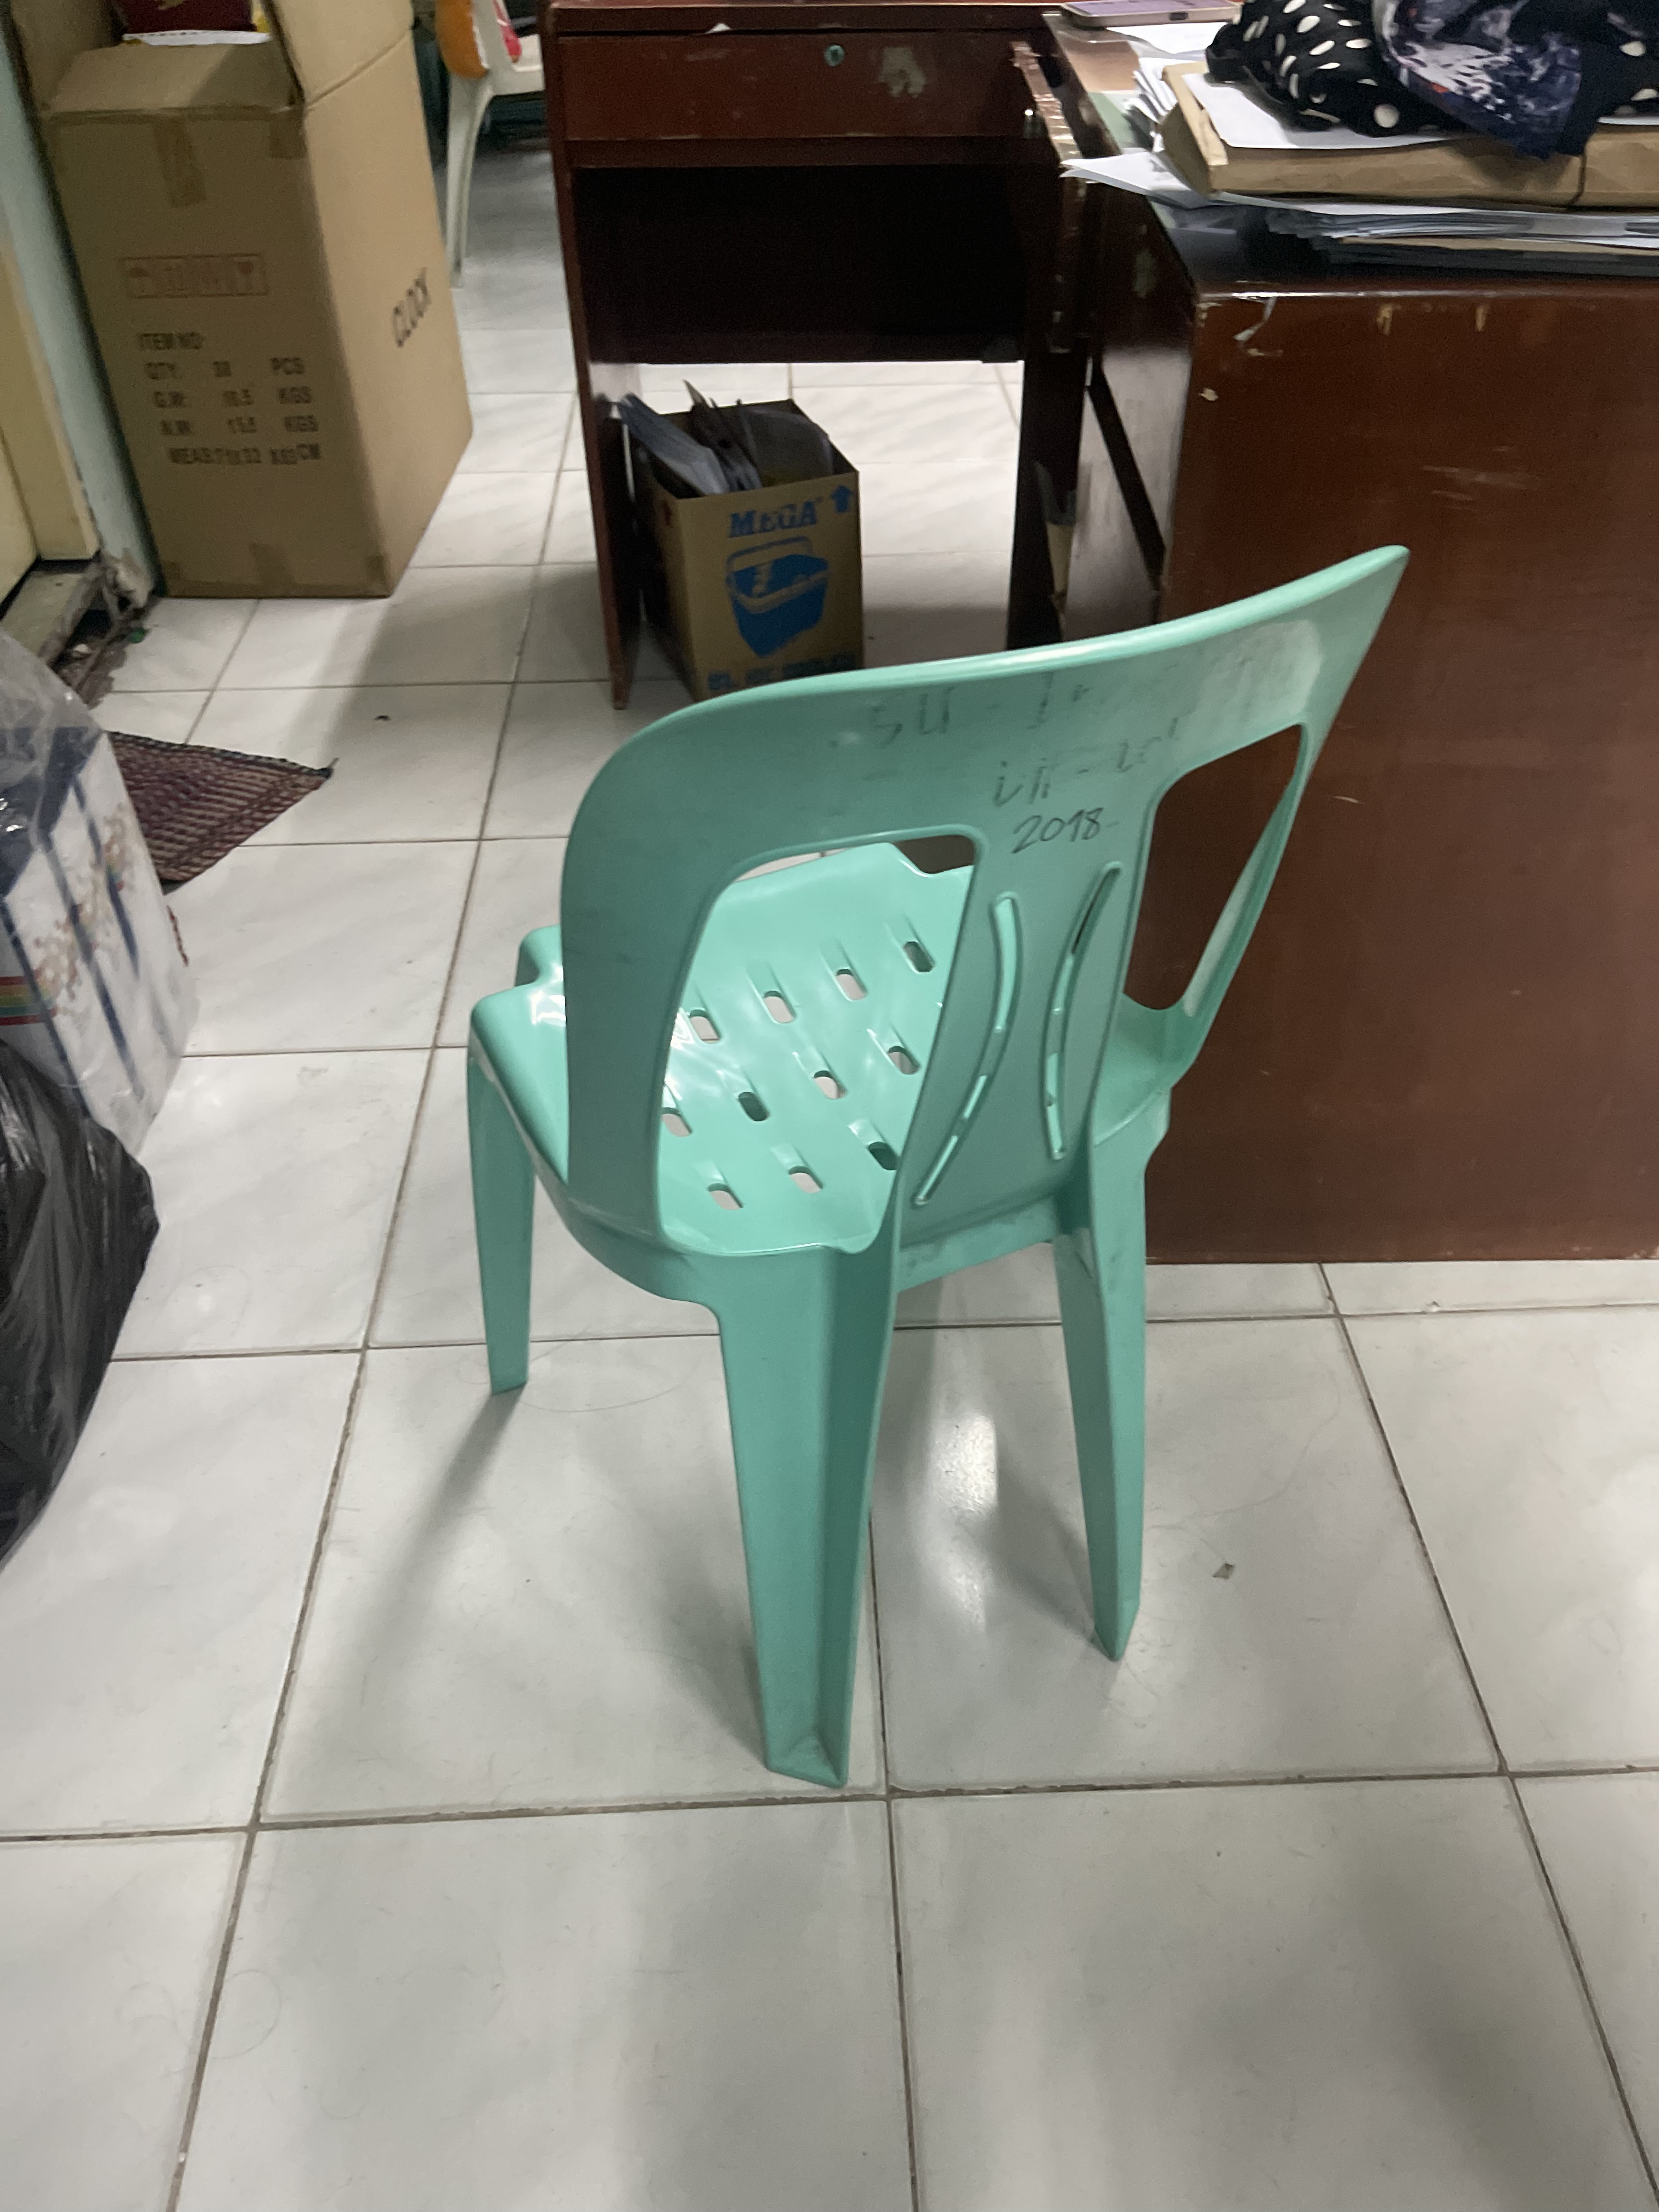chair2: (448, 526, 1427, 1803)
